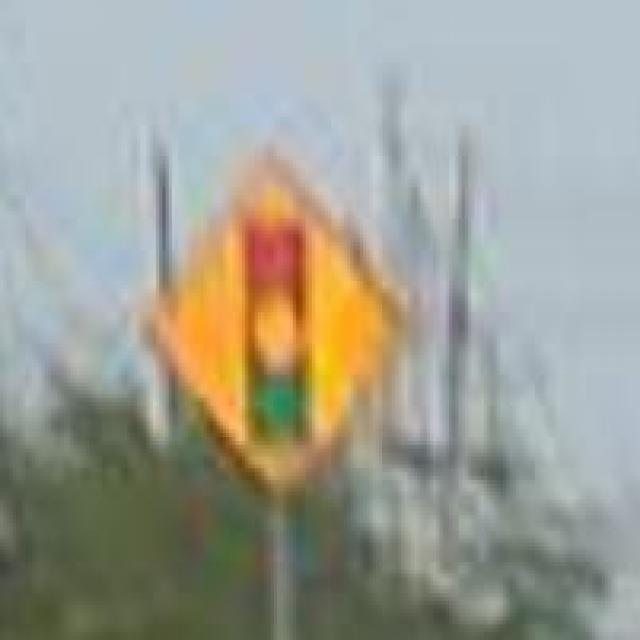traffic sign: (156, 160, 395, 492)
